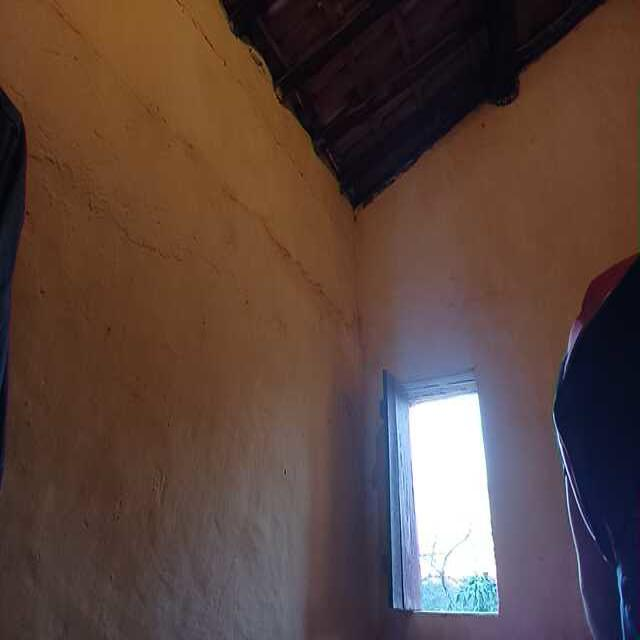colete: (563, 257, 640, 456)
pessoa: (555, 263, 639, 640)
